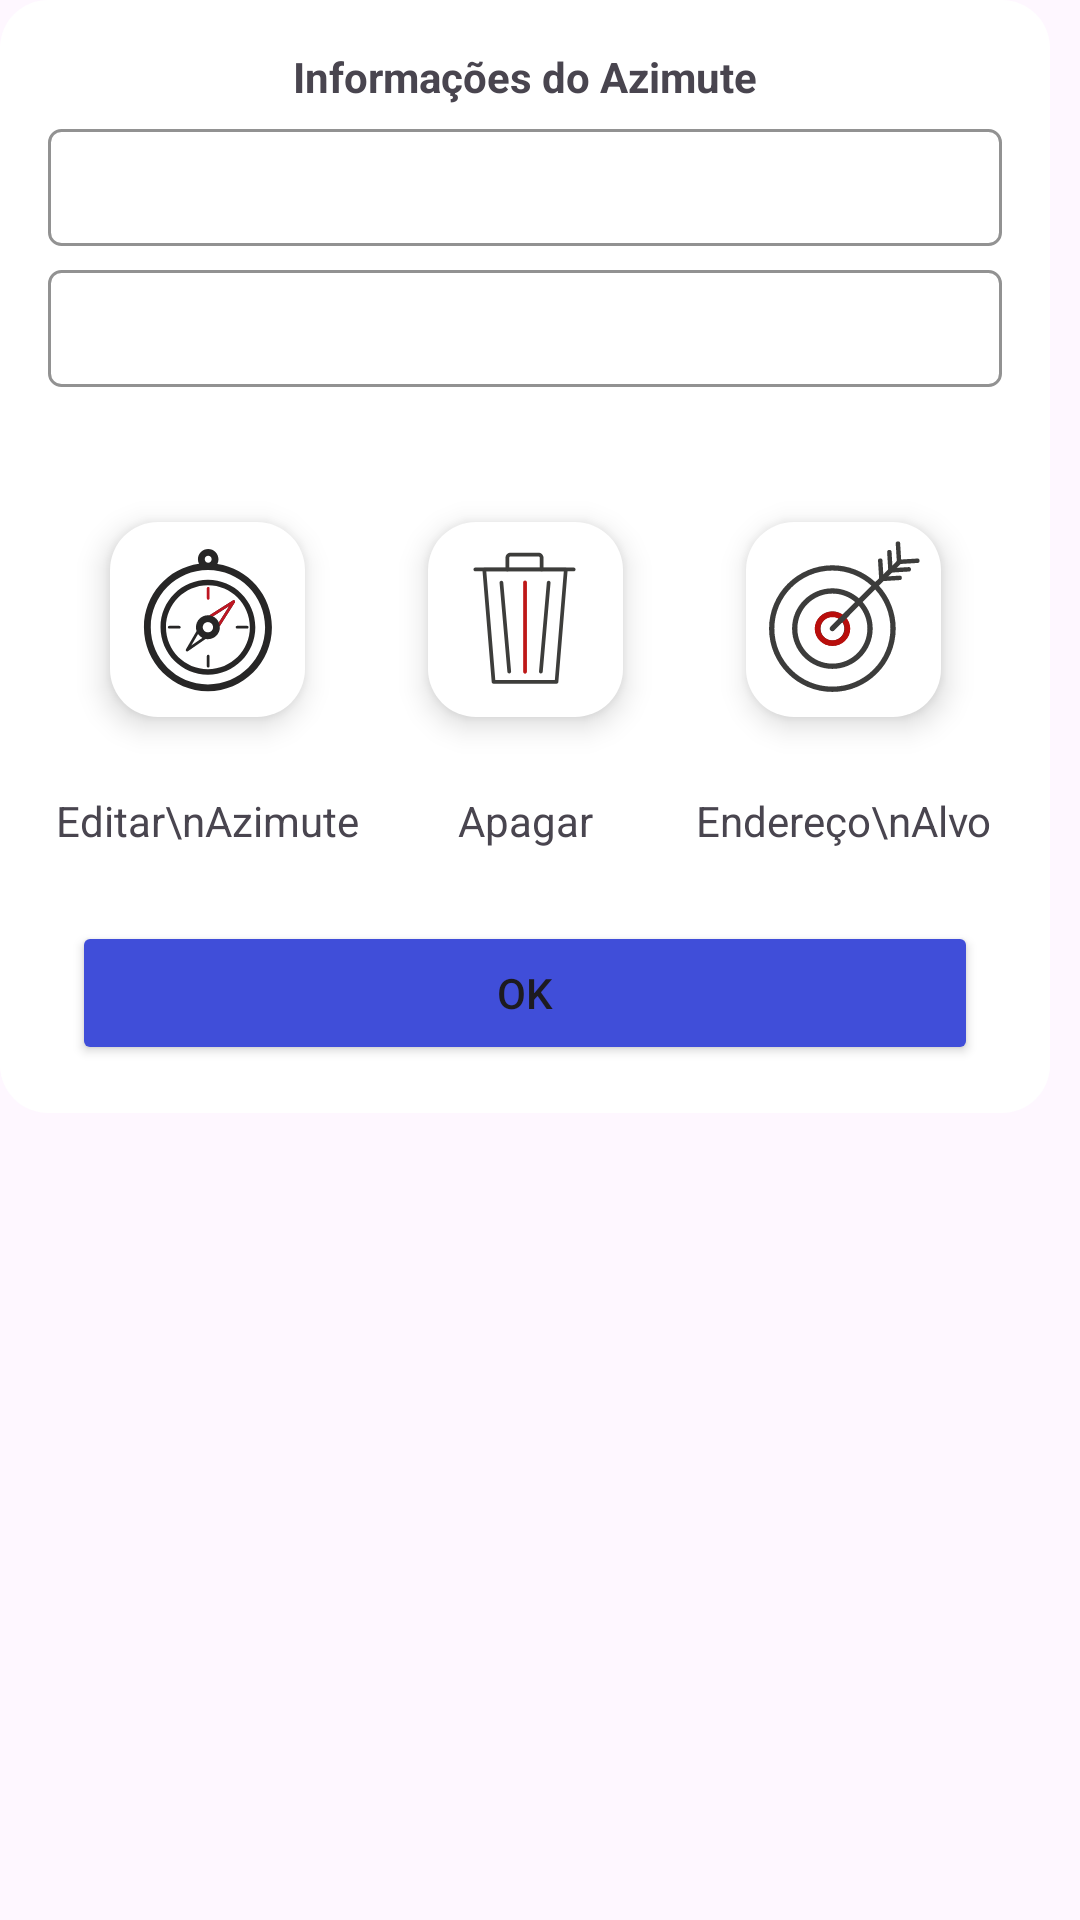

Icon bounding boxes for this 1080px x 1920px phone screenshot, format (x1, y1, x2, y2):
adress target: (749, 541, 941, 717)
edit azimuth: (110, 546, 300, 717)
